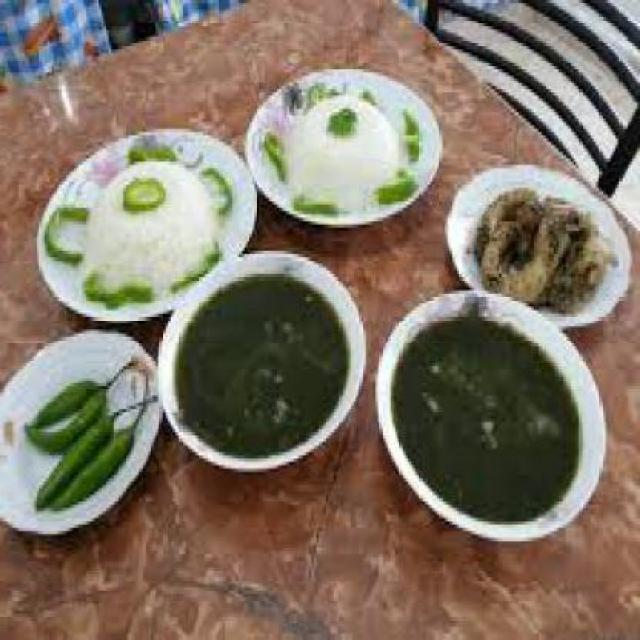fried rice: (42, 49, 416, 294)
molokhia: (175, 270, 591, 518)
